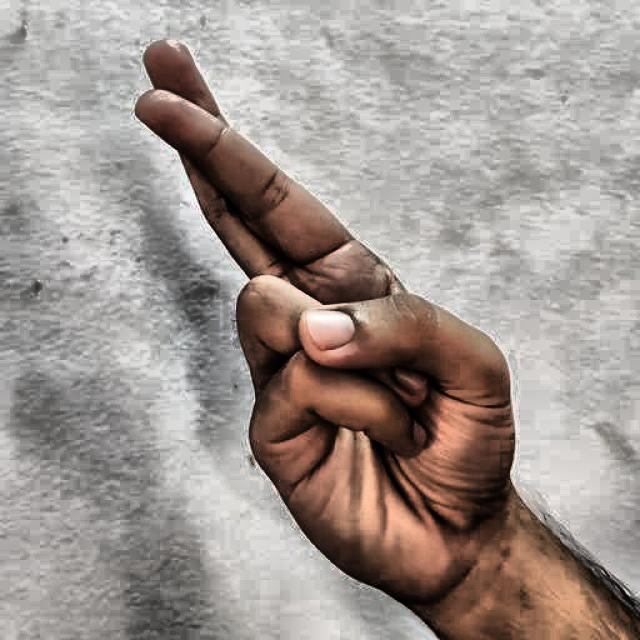Ra: (116, 18, 558, 640)
